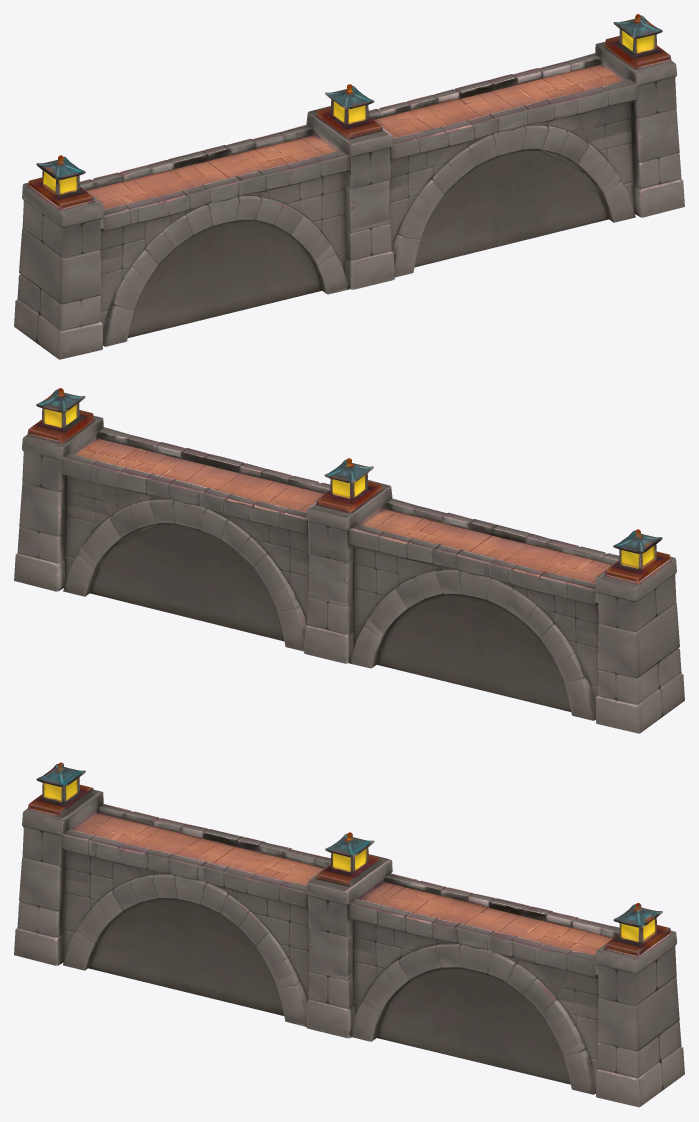
Rendered from SM_Tripo_ZhurongArchBridge.glb.
3 views of the same model, one above another, from view 1: azimuth 30°, elevation 25°; view 2: azimuth 150°, elevation 25°; view 3: azimuth 330°, elevation 25° (orthographic).
Visible parts, largest first — view 1: SM_Tripo_ZhurongArchBridge_LOD0; view 2: SM_Tripo_ZhurongArchBridge_LOD0; view 3: SM_Tripo_ZhurongArchBridge_LOD0.
Part boxes in pixels (left/top/right/bottom): SM_Tripo_ZhurongArchBridge_LOD0: left=14, top=14, right=684, bottom=359; SM_Tripo_ZhurongArchBridge_LOD0: left=14, top=388, right=684, bottom=733; SM_Tripo_ZhurongArchBridge_LOD0: left=14, top=762, right=684, bottom=1107.
Bounding box in the file's own units: 24.83 × 7 × 3.19.
Materials: 1 (1 with a texture image).
